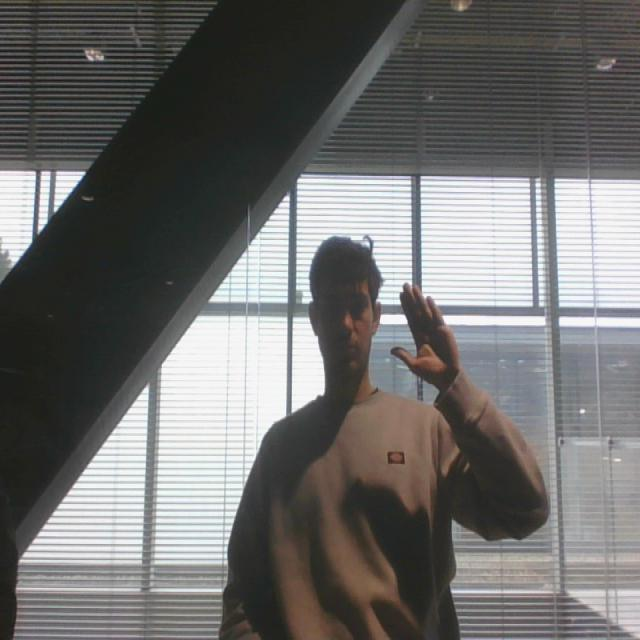backward: (388, 269, 462, 393)
